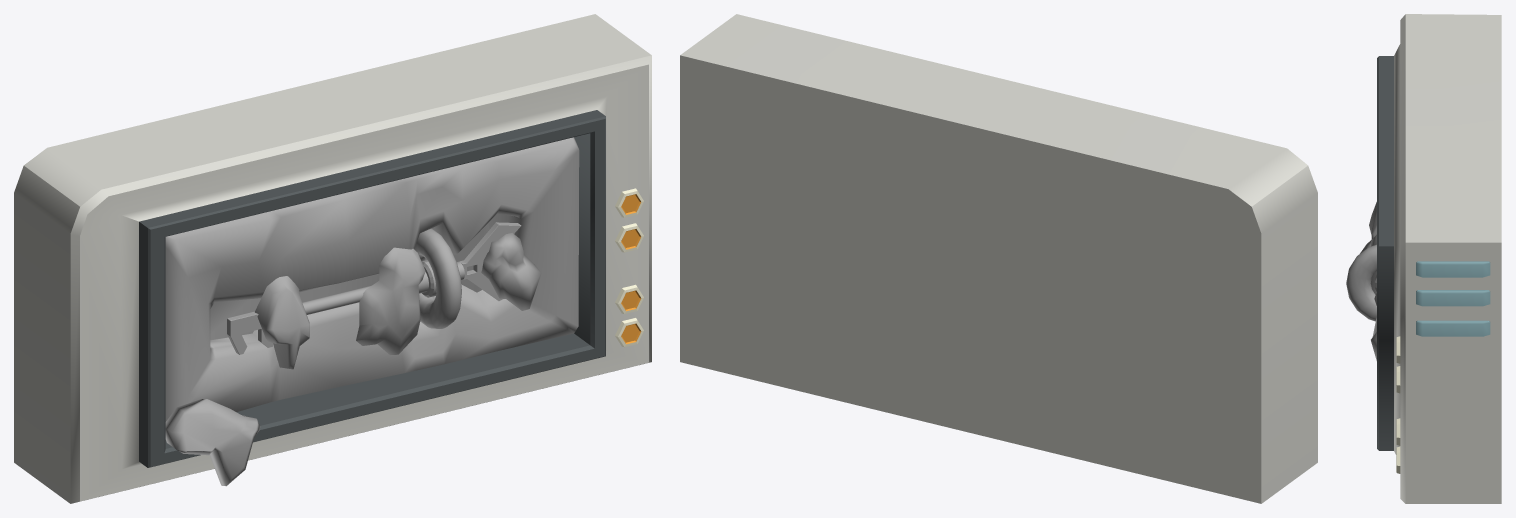
The model's file is Icebox.fbx.
3 renders of one model, left to right at view 1: azimuth 30°, elevation 25°; view 2: azimuth 150°, elevation 25°; view 3: azimuth 270°, elevation 25°, orthographic. The views are drawn at different scales.
Parts seen in each view (by area): view 1: IceBox, Icebox_chunk, TeslaKey001; view 2: IceBox; view 3: IceBox, TeslaKey001, Icebox_chunk.
Part boxes in pixels (x1,y1,x2,y2): IceBox: (14, 14, 651, 503); Icebox_chunk: (255, 233, 541, 369); TeslaKey001: (227, 222, 521, 354); IceBox: (680, 14, 1317, 503); IceBox: (1360, 14, 1501, 503); TeslaKey001: (1346, 244, 1376, 321); Icebox_chunk: (1369, 202, 1376, 360).
Bounding box in the file's own units: 17.5 × 8.74 × 4.71.
